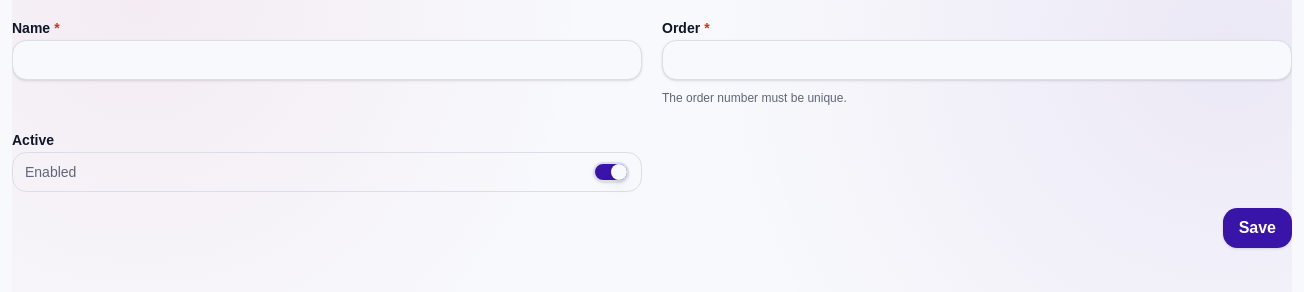
Scenario: ResourceForm › blocks an empty submit and shows inline errors wired with aria-invalid and aria-describedby
Click the button "Save".
click(1257, 228)  # box top-left (1223, 208), bottom-right (1292, 248)
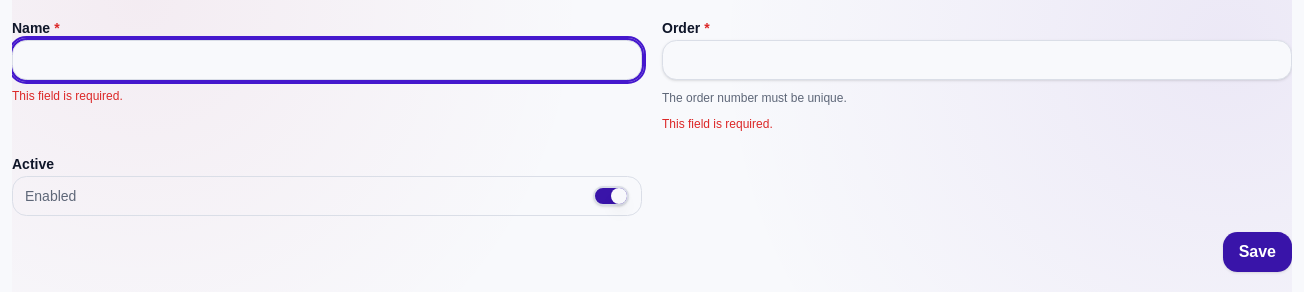
Now the message "This field is required." below "Name" is shown, box top-left (12, 89), bottom-right (123, 103)
